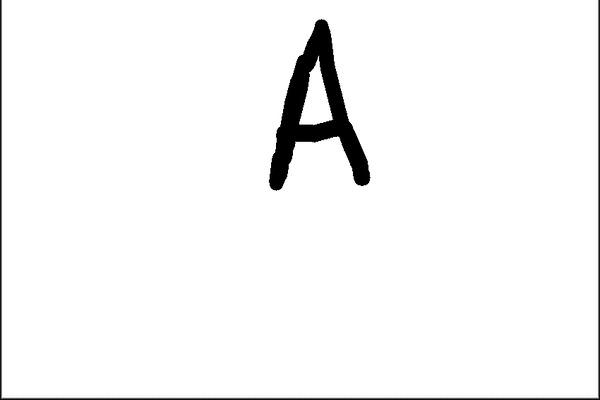A: (258, 13, 380, 198)
